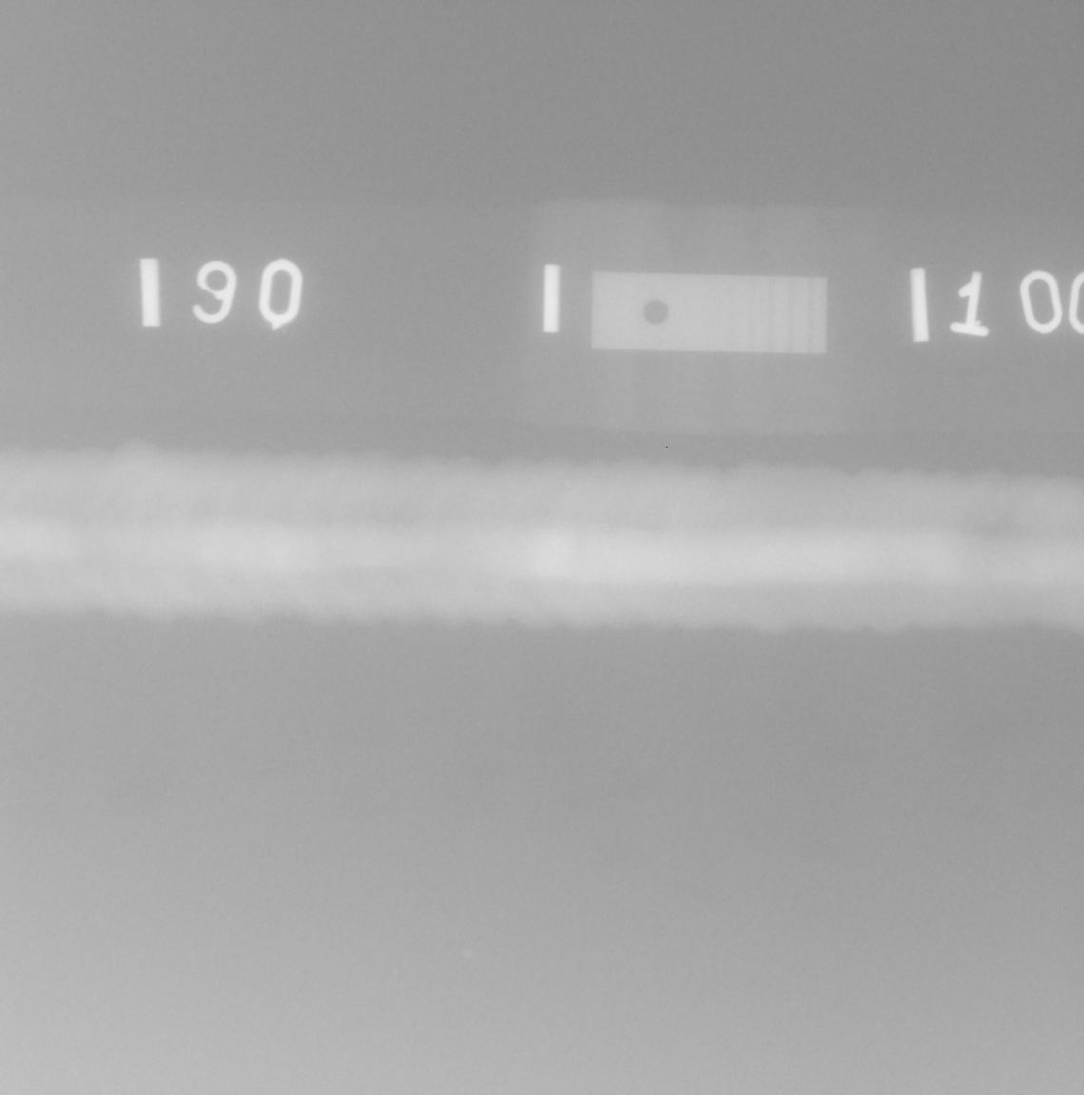Reference Standard 1: (590, 271, 827, 354)
